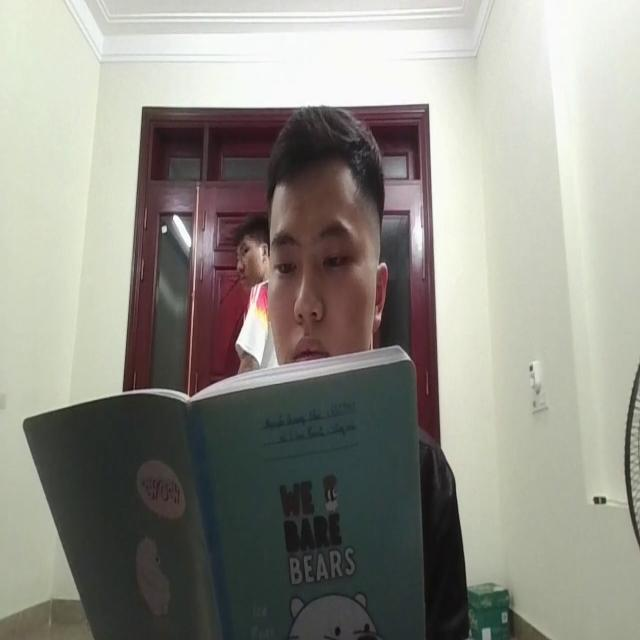book: (23, 363, 423, 640)
extra_person: (234, 220, 271, 382)
student: (266, 100, 382, 364)
